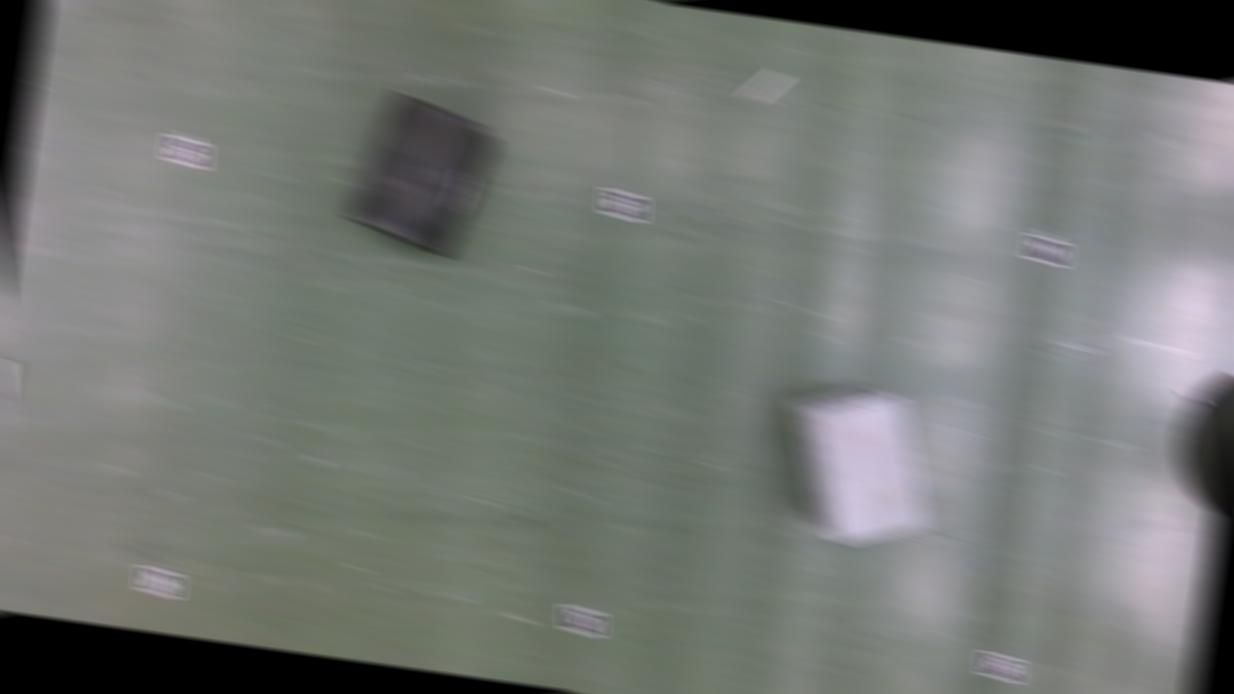probes: (745, 66, 786, 104), (0, 355, 14, 399)
rako: (770, 372, 945, 555), (341, 84, 502, 259)
